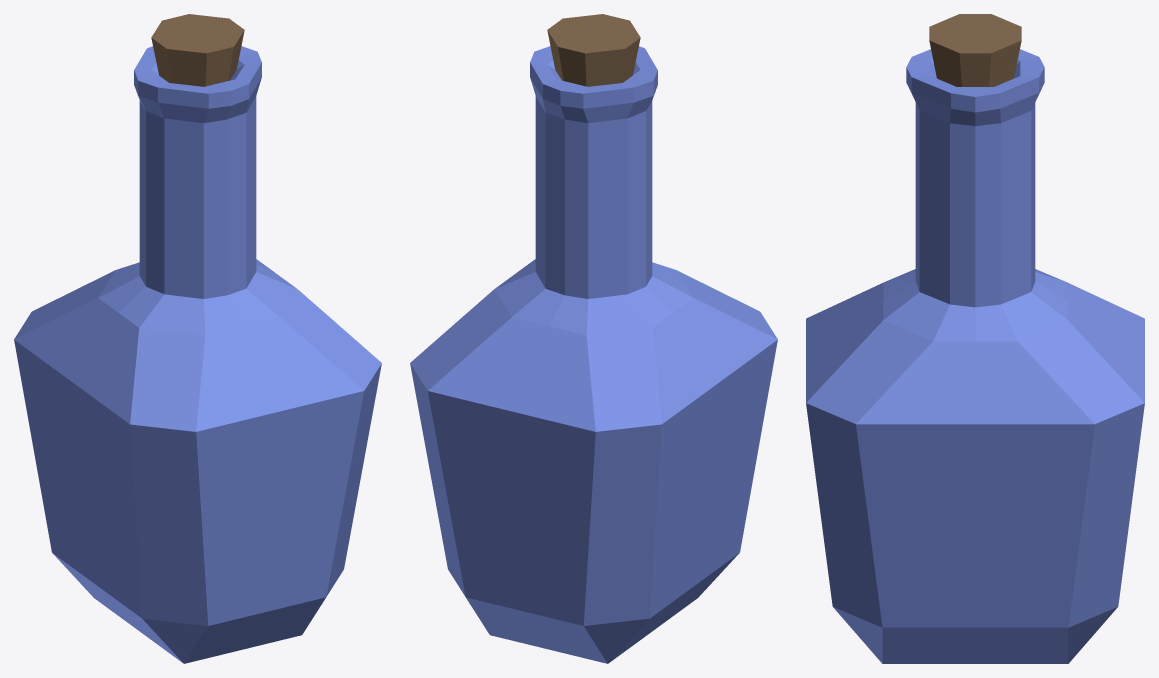
File: blueBottle.glb
The picture shows the model from 3 angles, left to right: view 1: azimuth 30°, elevation 25°; view 2: azimuth 150°, elevation 25°; view 3: azimuth 270°, elevation 25°; orthographic projection. The views are drawn at different scales.
Parts seen in each view (by area): view 1: Medium_Blue_5; view 2: Medium_Blue_5; view 3: Medium_Blue_5.
Boxes of the visible parts, box(x1,y1,x2,y2) form: Medium_Blue_5: box(14, 14, 381, 663); Medium_Blue_5: box(410, 14, 777, 663); Medium_Blue_5: box(806, 14, 1144, 663).
Bounding box in the file's own units: 0.3822 × 0.8451 × 0.4322.
